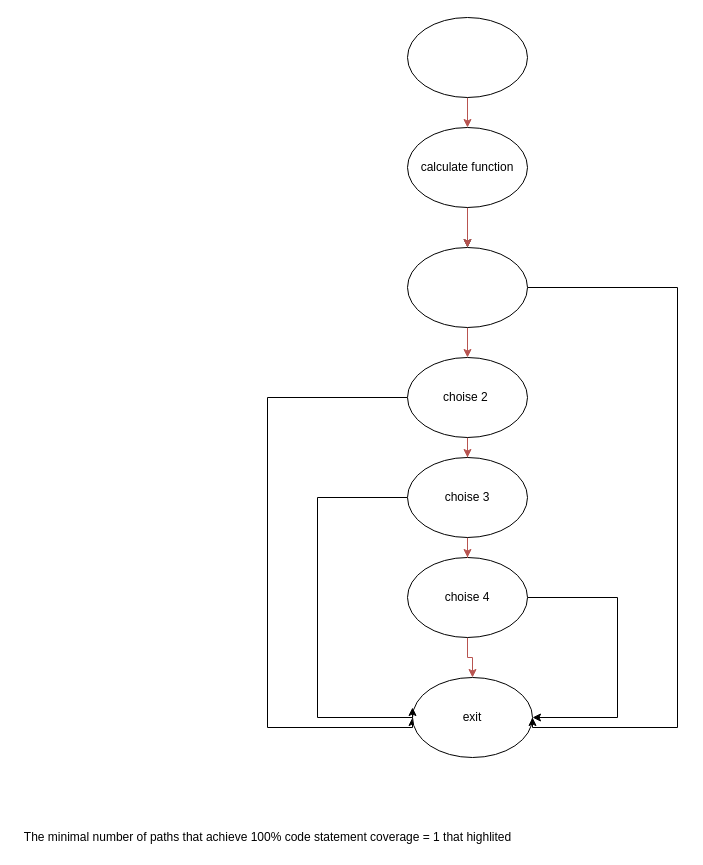
The diagram is 703 pixels wide and 865 high, and some of its shapes have lost their labels. Here are the shapes that lost their labels. From the top down, the box of each, then its label:
(406, 16, 528, 98): "enter choice"
(406, 246, 528, 328): choice 1
